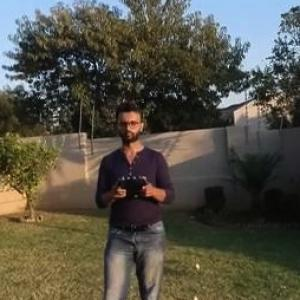follow: (86, 91, 178, 299)
